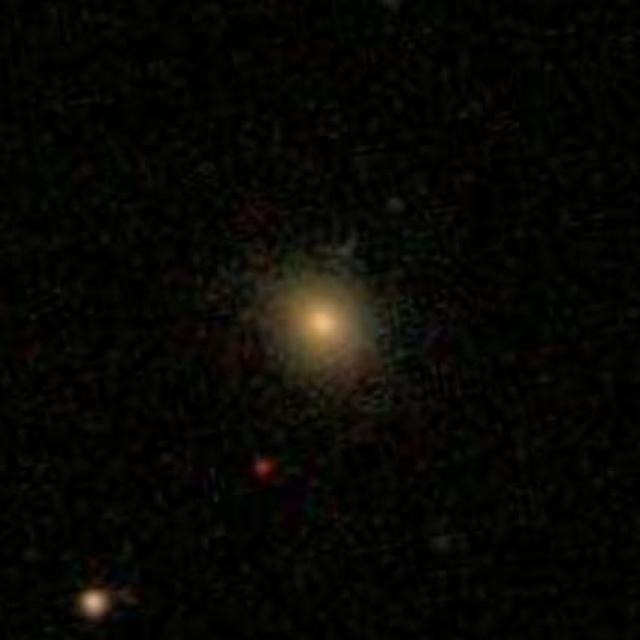galaxy: (212, 229, 426, 420), (74, 583, 122, 627), (246, 452, 281, 485)
